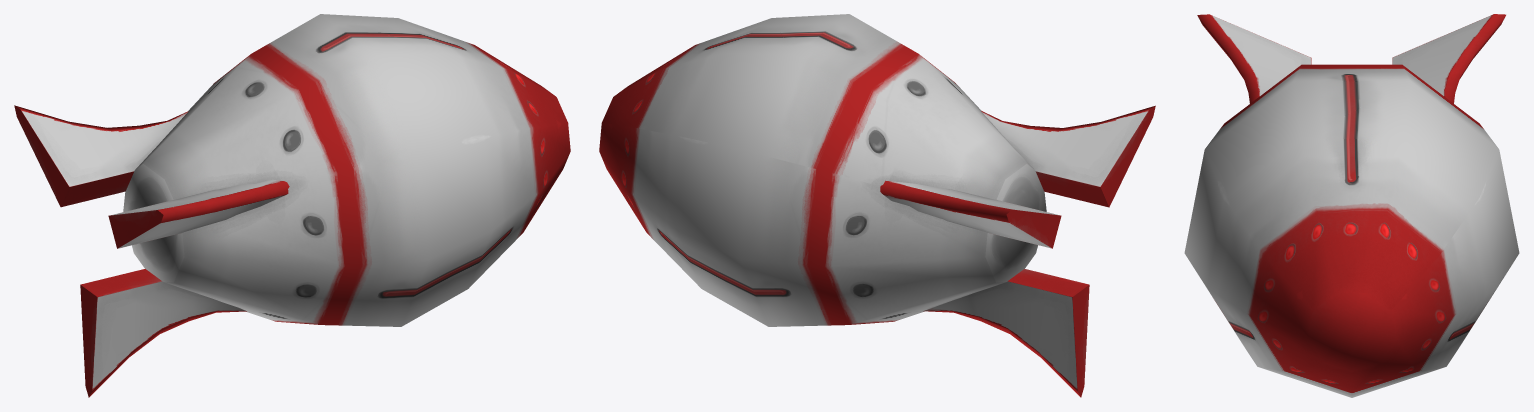
The model's file is Missle 1.fbx.
The picture shows the model from 3 angles, left to right: view 1: azimuth 30°, elevation 25°; view 2: azimuth 150°, elevation 25°; view 3: azimuth 270°, elevation 25°; orthographic projection. The views are drawn at different scales.
Parts seen in each view (by area): view 1: missile; view 2: missile; view 3: missile.
Boxes of the visible parts, x1,y1,x2,y2 form: missile: (14,14,570,397); missile: (599,14,1155,397); missile: (1184,14,1519,397).
Size of the model in its own units: 300 by 187 by 183.
